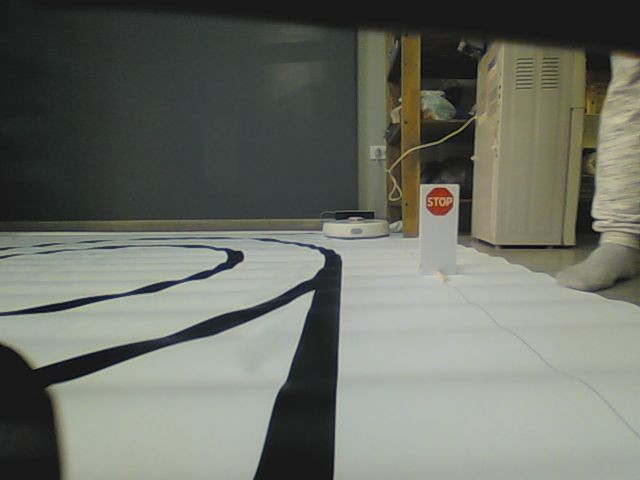Stop: (425, 187, 454, 216)
